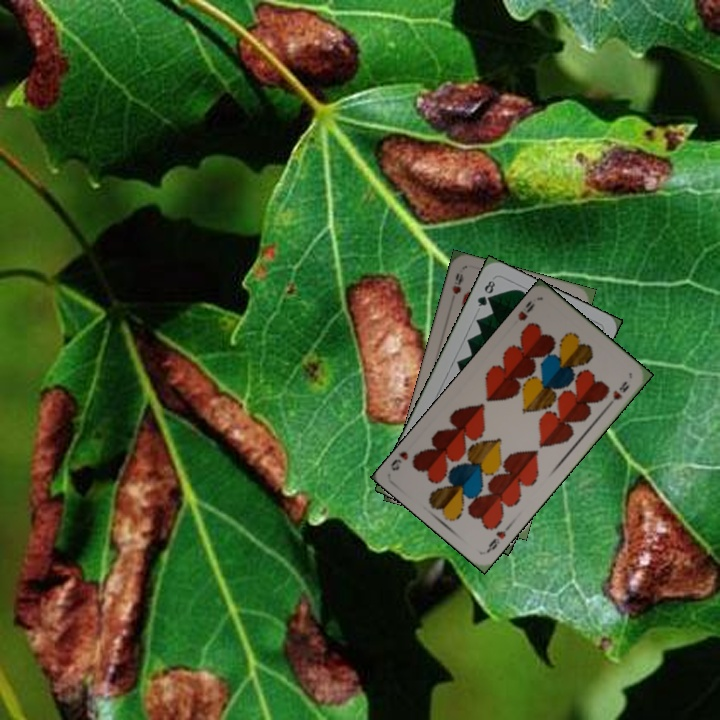G8: (473, 276, 498, 309)
H9: (483, 521, 513, 555), (514, 296, 538, 323), (448, 269, 466, 297)
